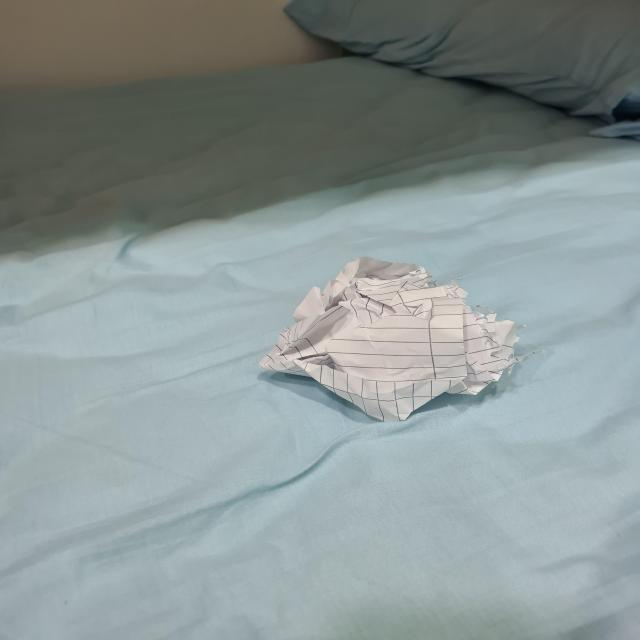cardboard paper: (259, 256, 515, 419)
